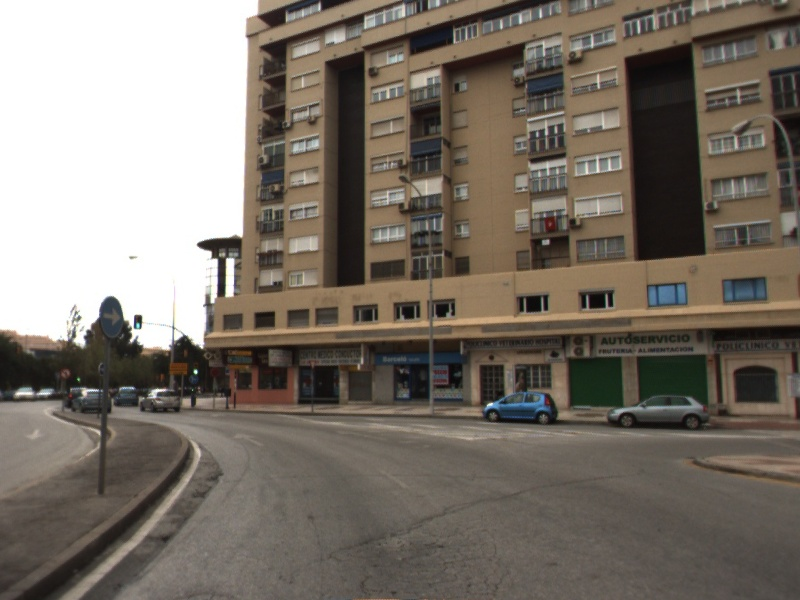STRAIGHT: (231, 430, 267, 449)
